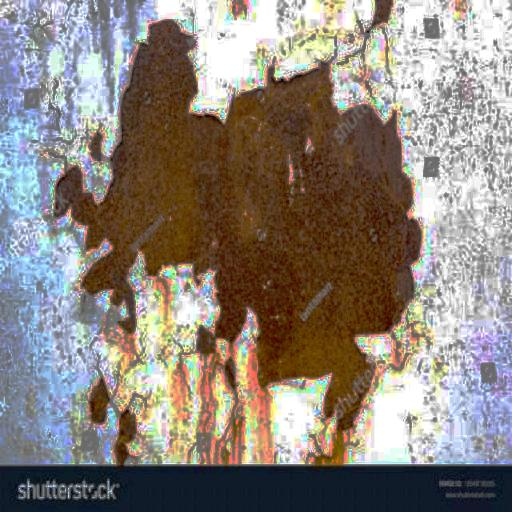corrosion: (52, 21, 450, 435)
